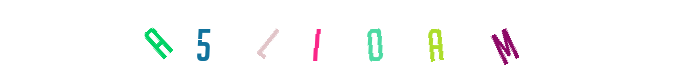5: (163, 0, 243, 80)
A: (118, 0, 198, 80), (395, 0, 475, 80)
I: (302, 0, 382, 80)
L: (297, 0, 377, 80)
M: (419, 0, 499, 80)
O: (302, 0, 382, 80)
